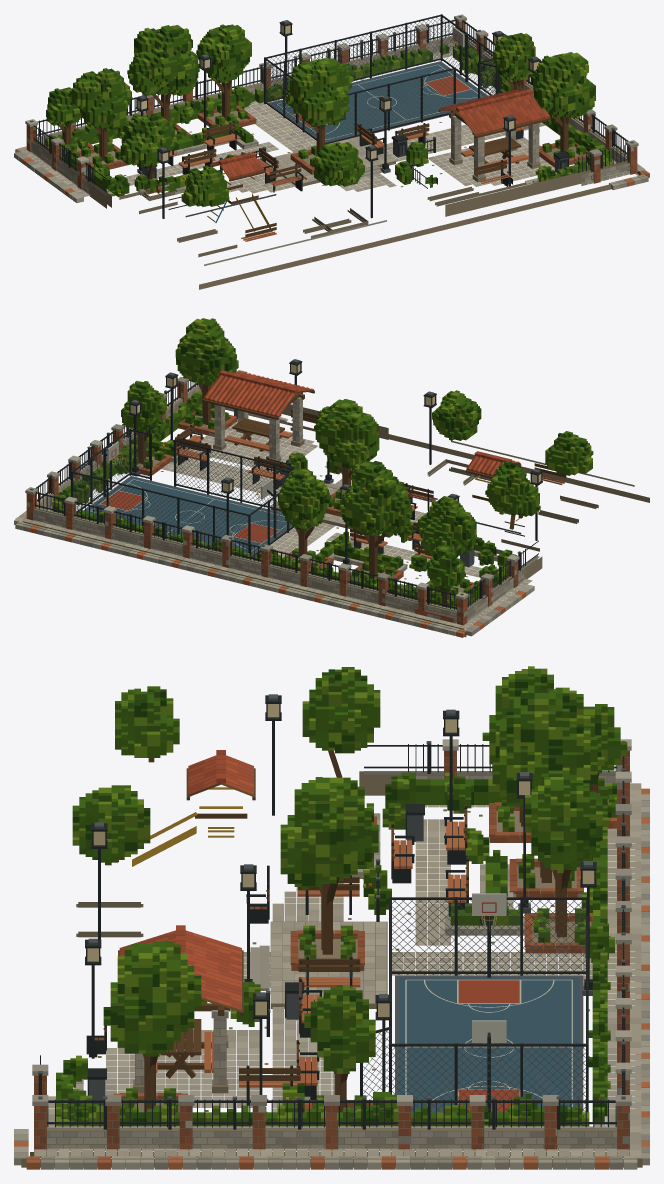
File: SM_StreetFrontage_114.fbx
3 views of the same model, one above another, from view 1: azimuth 30°, elevation 25°; view 2: azimuth 150°, elevation 25°; view 3: azimuth 270°, elevation 25° (orthographic). The views are drawn at different scales.
Parts seen in each view (by area): view 1: SM_StreetFrontage_114; view 2: SM_StreetFrontage_114; view 3: SM_StreetFrontage_114.
Boxes of the visible parts, x1,y1,x2,y2 form: SM_StreetFrontage_114: (14,14,649,289); SM_StreetFrontage_114: (14,318,649,637); SM_StreetFrontage_114: (14,666,649,1169).
Bounding box in the file's own units: 80 × 56.85 × 19.9.
